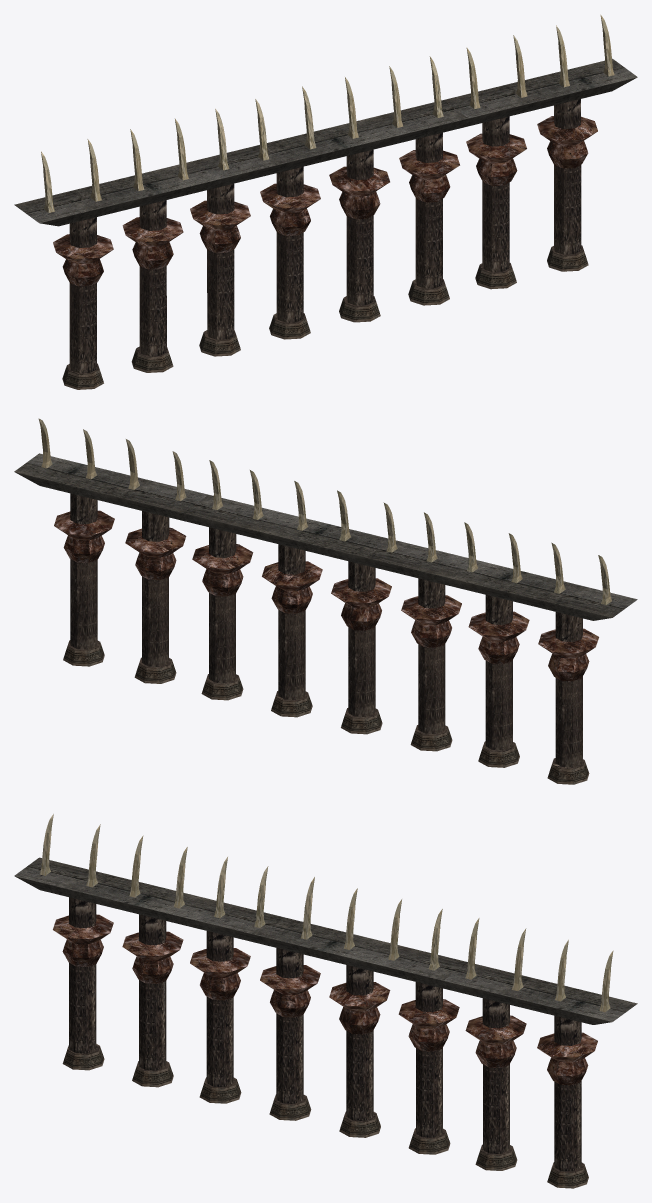
Rendered from Templebuilding2.fbx.
The picture shows the model from 3 angles, top to bottom: view 1: azimuth 30°, elevation 25°; view 2: azimuth 150°, elevation 25°; view 3: azimuth 330°, elevation 25°; orthographic projection.
Visible parts, largest first — view 1: Mesh1; view 2: Mesh1; view 3: Mesh1.
Boxes of the visible parts, x1,y1,x2,y2 form: Mesh1: [14, 14, 637, 389]; Mesh1: [14, 418, 637, 784]; Mesh1: [14, 814, 637, 1188].
Bounding box in the file's own units: 130 × 48.72 × 12.07.
